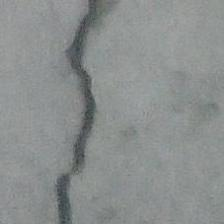Crack: (41, 0, 163, 224)
